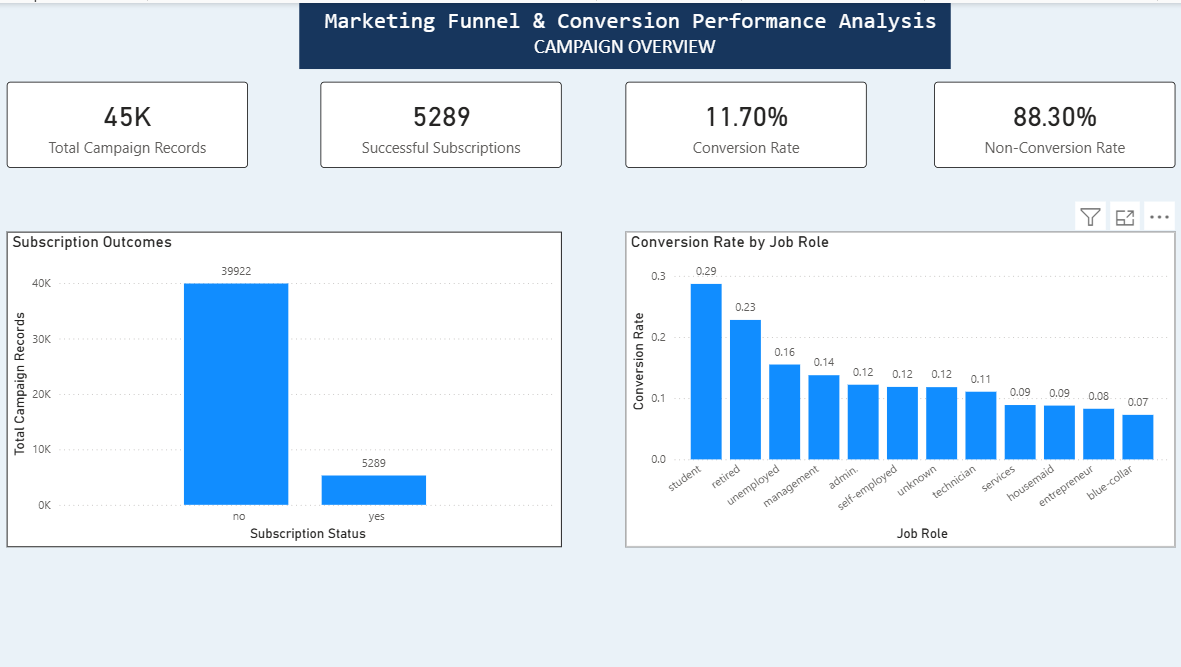

Layout of this report page (visuals, bound fields, positions):
{"tool":"powerbi","page":{"name":"Campaign Overview","canvas":[1280,720],"ordinal":0},"visuals":[{"type":"textbox","box":[324.8,0,702.1,71.4],"z":0},{"type":"card","fields":{"Values":["bank_marketing_cleaned.Total Campaign Records"]},"box":[9.4,84.9,260.1,93],"z":1},{"type":"card","fields":{"Values":["bank_marketing_cleaned.Successful Subscriptions"]},"box":[347.7,84.9,260.1,93],"z":2},{"type":"card","fields":{"Values":["bank_marketing_cleaned.Conversion Rate"]},"box":[676.5,84.9,260.1,93],"z":3},{"type":"card","fields":{"Values":["bank_marketing_cleaned.Non-Conversion Rate"]},"box":[1009.4,84.9,260.1,93],"z":4},{"type":"clusteredColumnChart","title":"Subscription Outcomes","fields":{"Category":["bank_marketing_cleaned.Subscription Status"],"Y":["bank_marketing_cleaned.Total Campaign Records"]},"box":[9.4,246.6,598.4,339.6],"z":5},{"type":"clusteredColumnChart","title":"Conversion Rate by Job Role","fields":{"Category":["bank_marketing_cleaned.Job Role"],"Y":["bank_marketing_cleaned.Conversion Rate"]},"box":[676.5,246.6,593,339.6],"z":6}]}

Visuals, with their boxes in screenshot pixels (x1, y1, x2, y2), scaled from the page's 1280x720 canvas onto the 1181x667 screenshot:
textbox: [left=300, top=0, right=947, bottom=66]
card - bank_marketing_cleaned.Total Campaign Records: [left=9, top=79, right=249, bottom=165]
card - bank_marketing_cleaned.Successful Subscriptions: [left=321, top=79, right=561, bottom=165]
card - bank_marketing_cleaned.Conversion Rate: [left=624, top=79, right=864, bottom=165]
card - bank_marketing_cleaned.Non-Conversion Rate: [left=931, top=79, right=1171, bottom=165]
"Subscription Outcomes" clusteredColumnChart: [left=9, top=228, right=561, bottom=543]
"Conversion Rate by Job Role" clusteredColumnChart: [left=624, top=228, right=1171, bottom=543]
